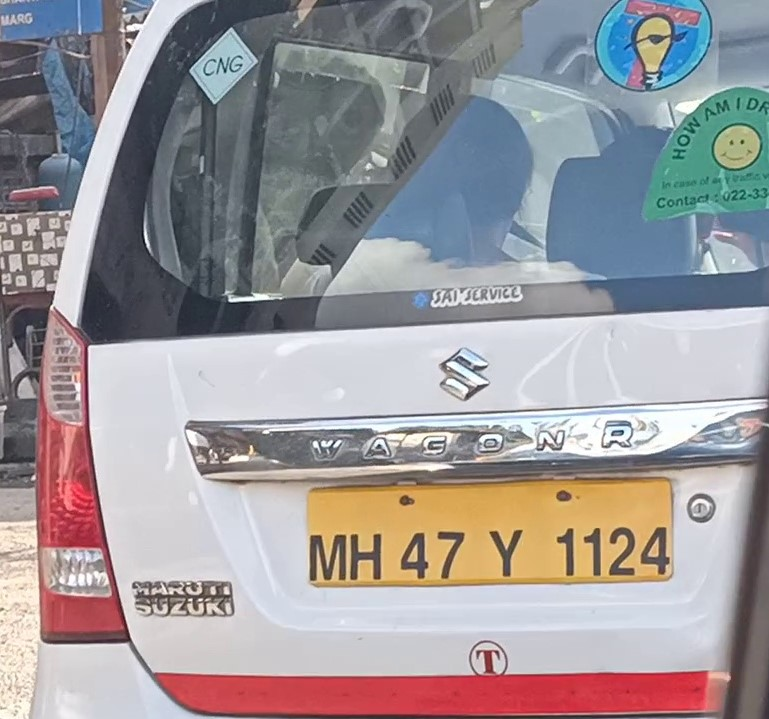MH47Y1124: (305, 476, 677, 590)
